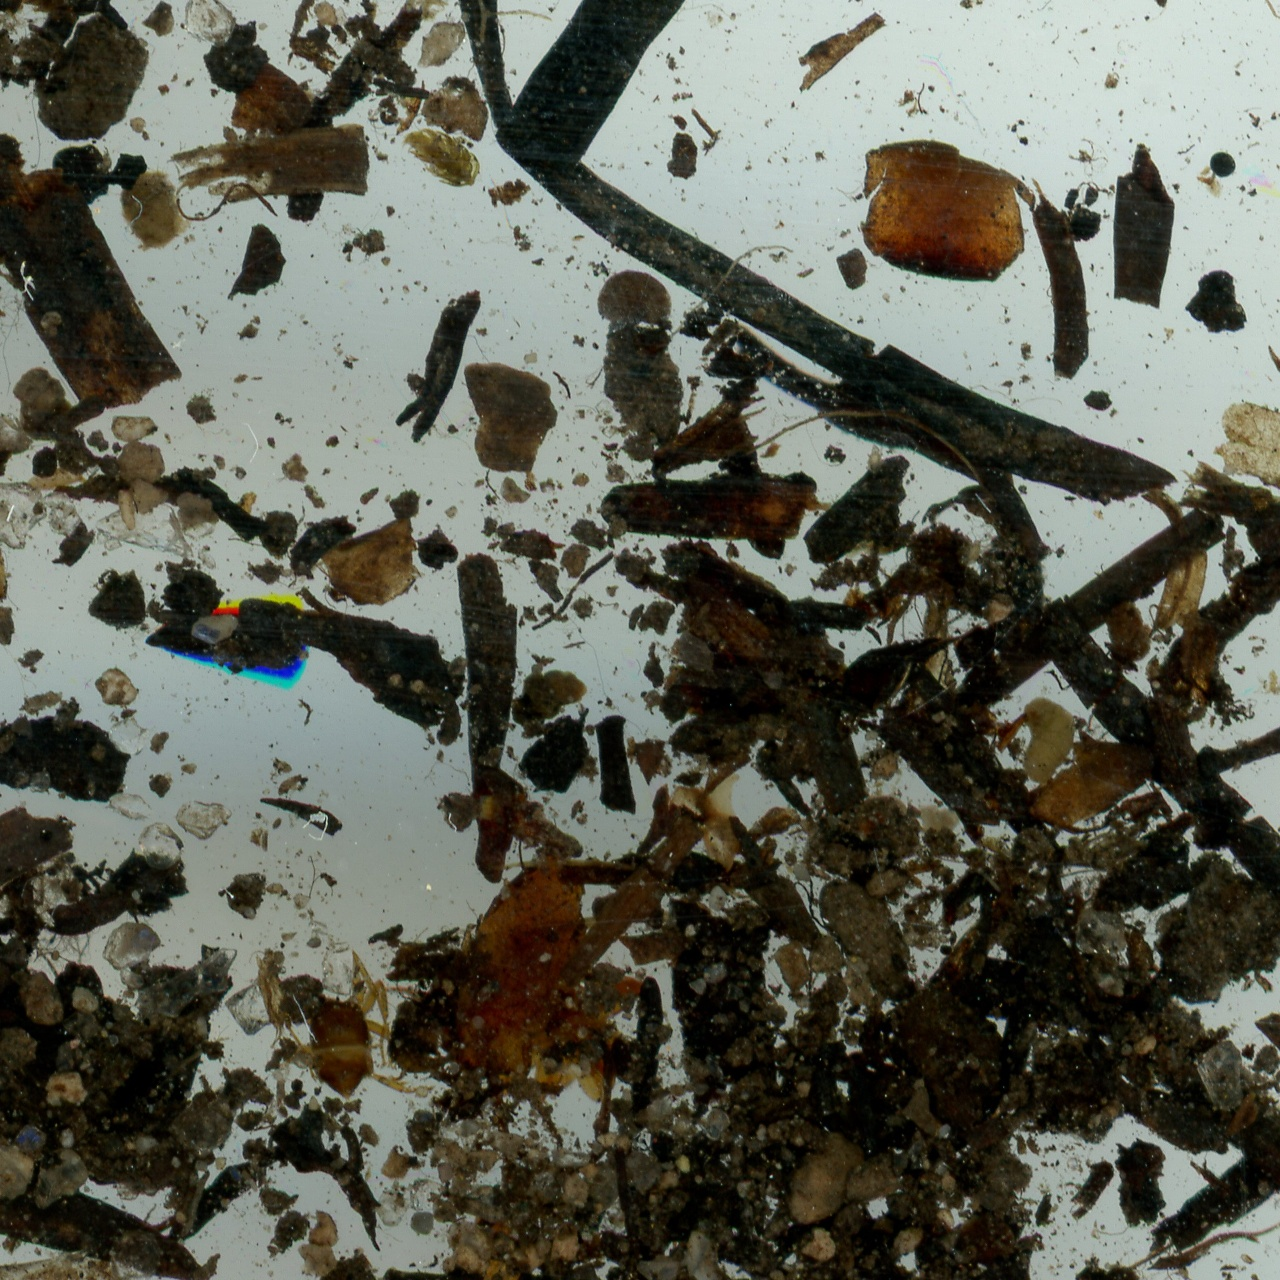arthropod: (285, 944, 417, 1105), (315, 867, 340, 898)
